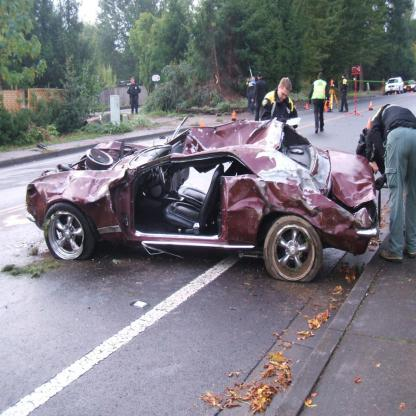face: (279, 89, 291, 101), (132, 81, 135, 86)
